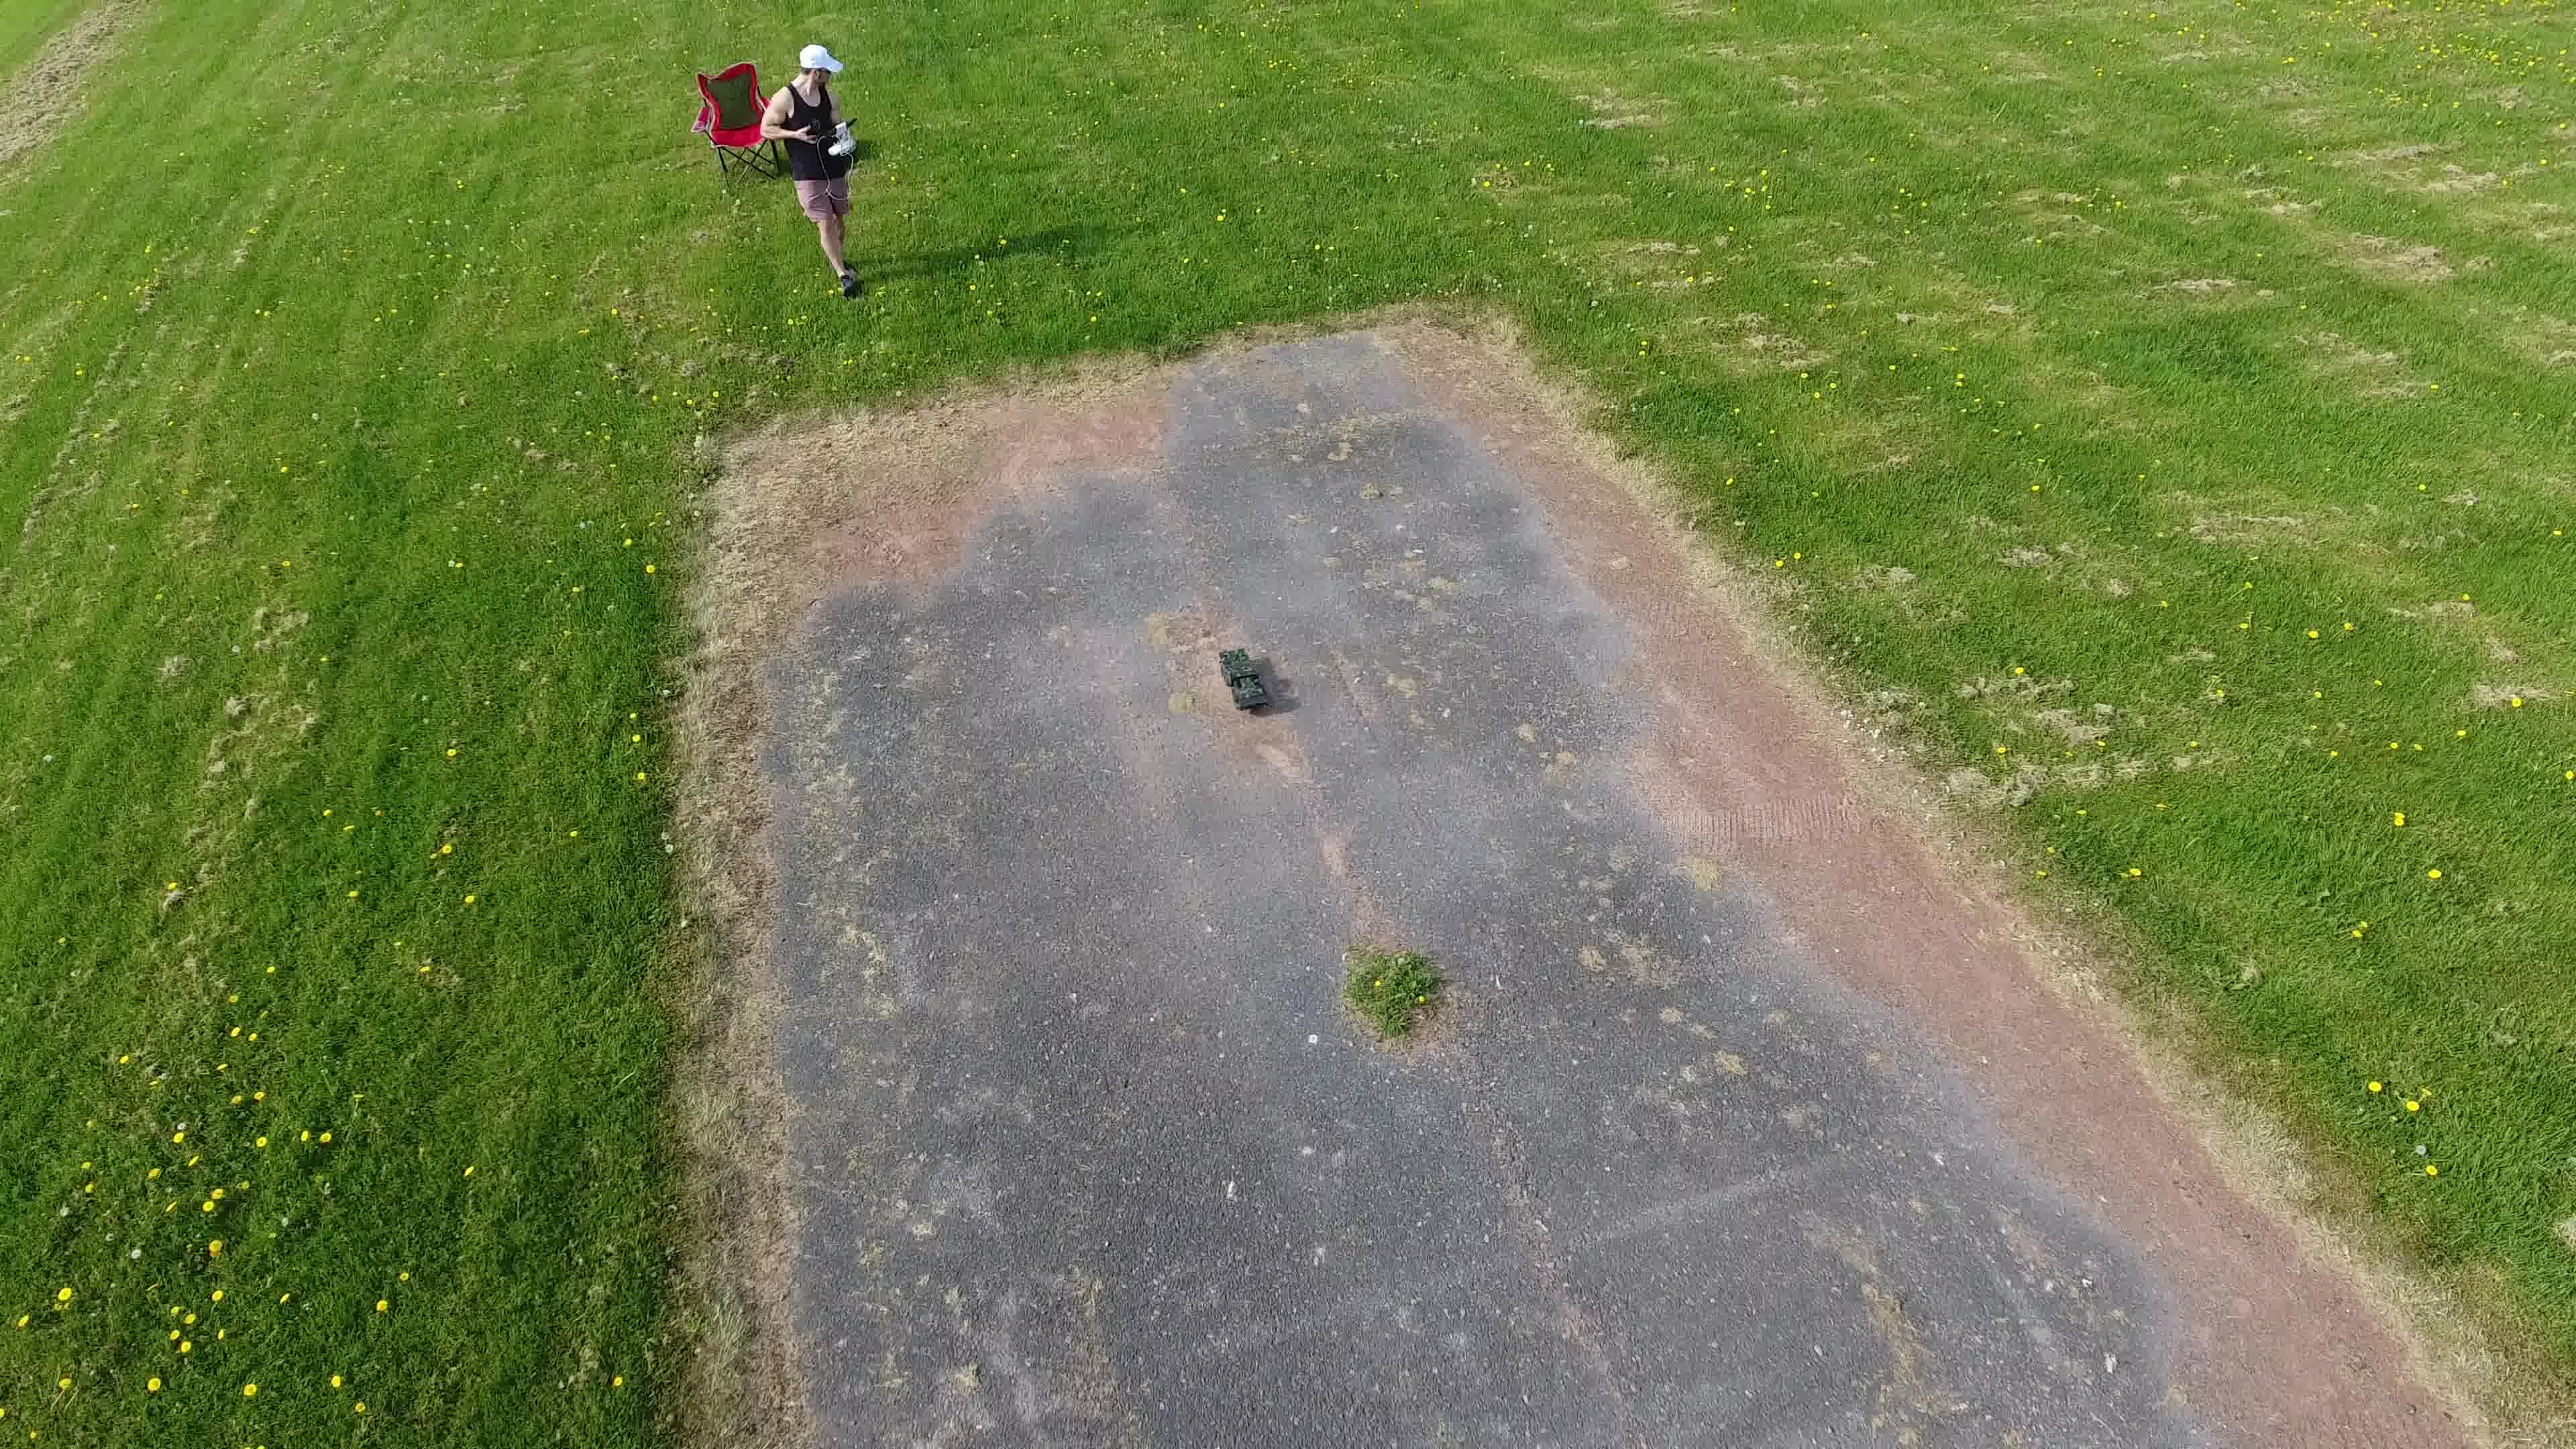transporter9_camo: (1215, 646, 1272, 713)
